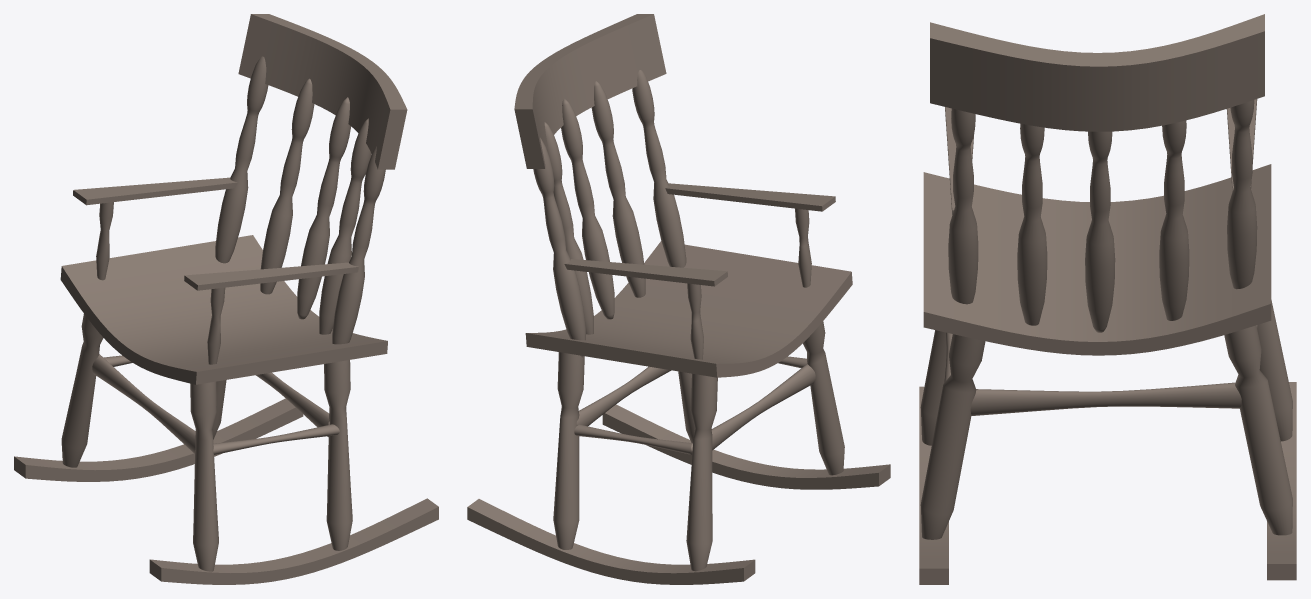
The model's file is RockingChair.fbx.
The picture shows the model from 3 angles, left to right: view 1: azimuth 30°, elevation 25°; view 2: azimuth 150°, elevation 25°; view 3: azimuth 270°, elevation 25°; orthographic projection. The views are drawn at different scales.
Visible parts, largest first — view 1: Chair_Base1; view 2: Chair_Base1; view 3: Chair_Base1.
Boxes of the visible parts, bbox=[...] form: Chair_Base1: bbox=[14, 14, 438, 584]; Chair_Base1: bbox=[467, 14, 890, 584]; Chair_Base1: bbox=[919, 14, 1296, 584].
Size of the model in its own units: 53.73 by 80.89 by 48.78.
